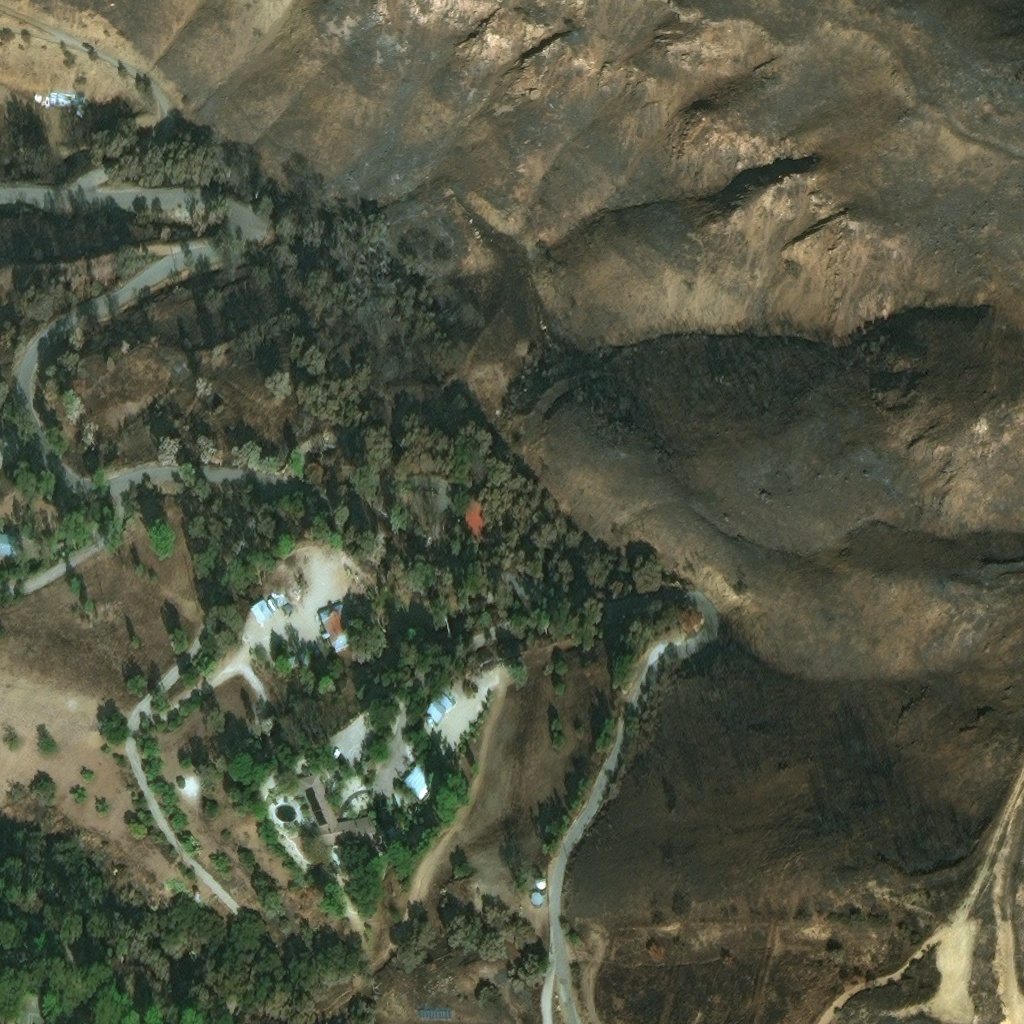0 no-damage: (298, 770, 384, 849), (466, 609, 525, 652), (317, 598, 362, 650), (454, 491, 497, 542), (402, 747, 441, 794), (419, 683, 459, 725), (247, 596, 278, 626), (449, 388, 472, 410), (419, 1006, 453, 1018), (276, 588, 290, 603), (532, 892, 543, 903), (537, 880, 546, 889)
3 destroyed: (45, 88, 82, 104), (290, 579, 303, 594), (33, 92, 43, 99)
